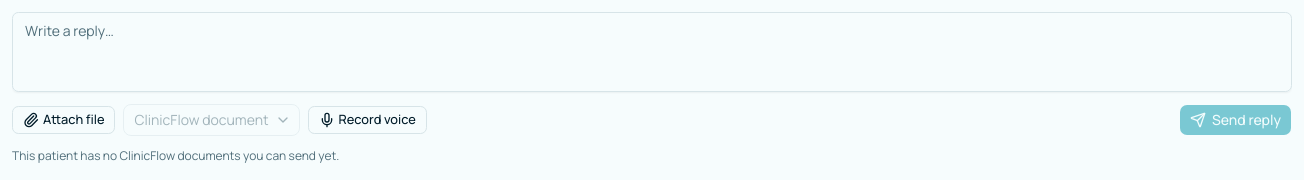
P8B Inbox composer › restores the previously working microphone with an exact constraint
Click the button "Record voice". click: x=367, y=120
box: [308,106,427,134]
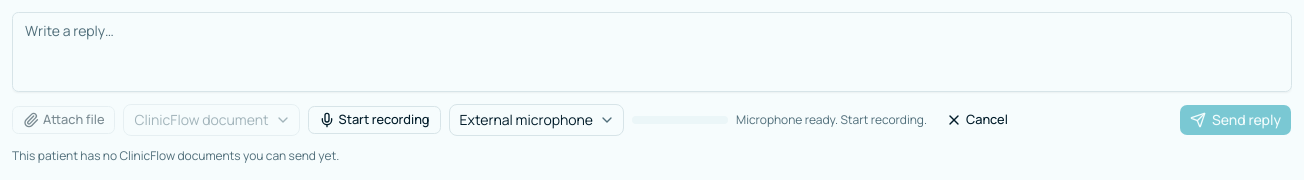
Expected: the text "Microphone ready. Start recording." is shown, [736,112,927,128]
Expected: the dropdown named "Microphone input" reads "External microphone", [448,104,624,136]
